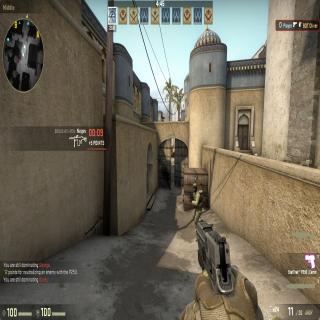CT-Body: (191, 182, 203, 228)
CT-Head: (192, 182, 197, 193)
